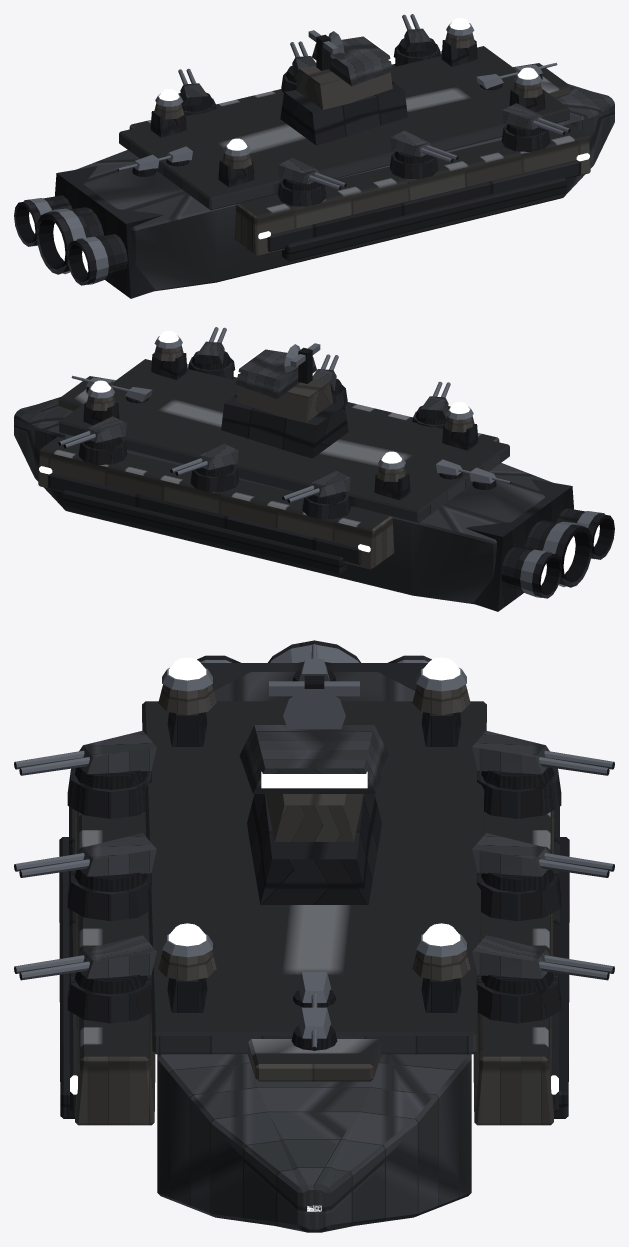
The model's file is cruiser.glb.
3 renders of one model, top to bottom at view 1: azimuth 30°, elevation 25°; view 2: azimuth 150°, elevation 25°; view 3: azimuth 270°, elevation 25°, orthographic. The views are drawn at different scales.
Visible parts, largest first — view 1: hull_body, weapon_turrets, engine_block, sensor_tower, shield_pylons; view 2: hull_body, weapon_turrets, engine_block, sensor_tower, shield_pylons; view 3: hull_body, weapon_turrets, sensor_tower, shield_pylons, engine_block.
Boxes of the visible parts, x1=… form: hull_body: x1=76, y1=46, x2=614, y2=291; weapon_turrets: x1=117, y1=14, x2=570, y2=206; engine_block: x1=14, y1=166, x2=163, y2=298; sensor_tower: x1=280, y1=30, x2=407, y2=145; shield_pylons: x1=150, y1=18, x2=545, y2=187; hull_body: x1=14, y1=359, x2=552, y2=604; weapon_turrets: x1=58, y1=327, x2=511, y2=519; engine_block: x1=465, y1=479, x2=614, y2=611; sensor_tower: x1=221, y1=343, x2=348, y2=458; shield_pylons: x1=83, y1=331, x2=478, y2=500; hull_body: x1=59, y1=672, x2=569, y2=1232; weapon_turrets: x1=14, y1=644, x2=614, y2=1050; sensor_tower: x1=239, y1=676, x2=389, y2=904; shield_pylons: x1=158, y1=657, x2=470, y2=1012; engine_block: x1=197, y1=640, x2=431, y2=690.
Bounding box in the file's own units: 42 × 13.22 × 20.87.
Materials: 1 (1 with a texture image).
